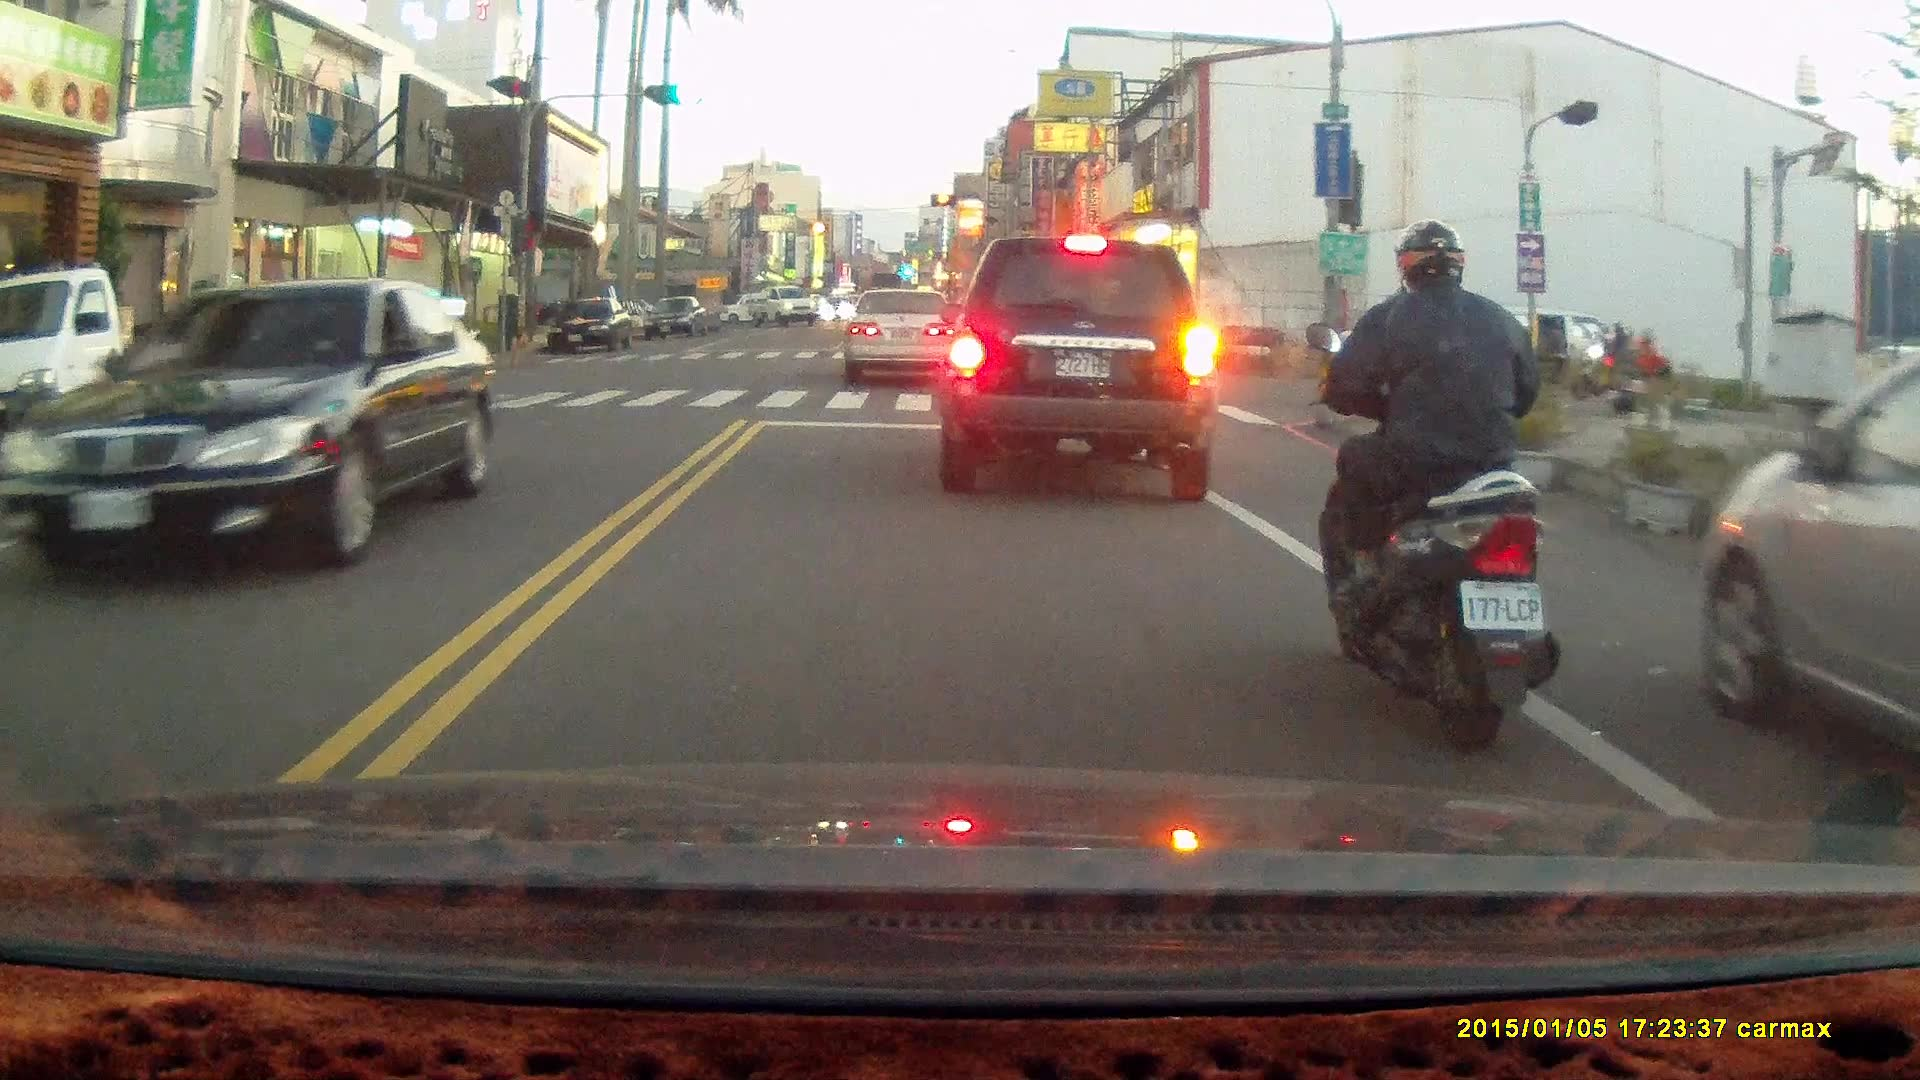pedestrian: (1541, 318, 1564, 384)
rider: (1305, 214, 1563, 751), (1608, 324, 1693, 421), (1578, 315, 1648, 402)
vehicle: (16, 277, 500, 578), (1693, 356, 1920, 766), (940, 235, 1219, 503), (1, 268, 207, 458), (848, 288, 959, 385), (548, 297, 641, 354), (642, 296, 710, 341)
